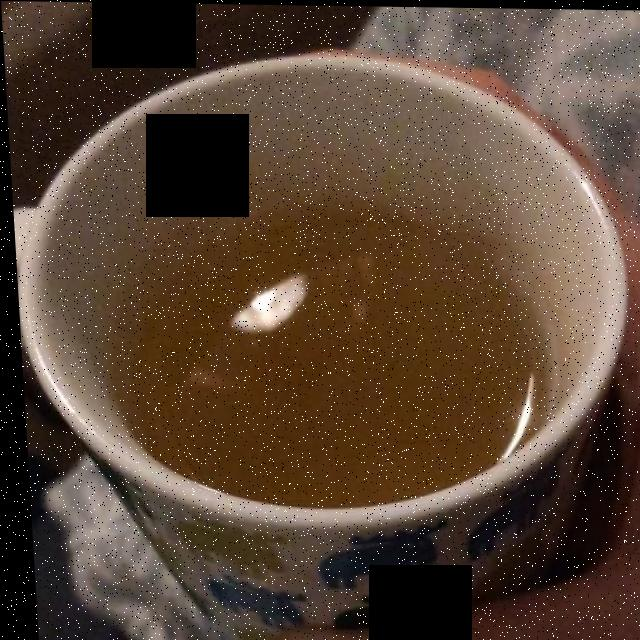herbal-tea: (121, 197, 535, 501)
